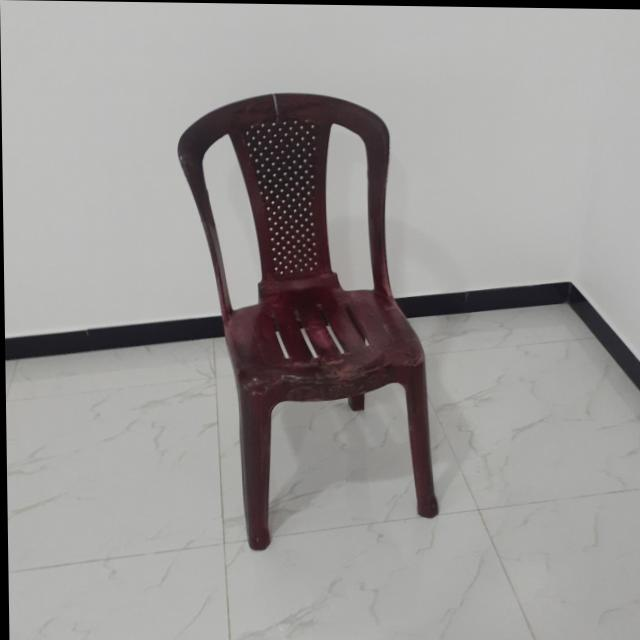Chair: (178, 92, 436, 552)
